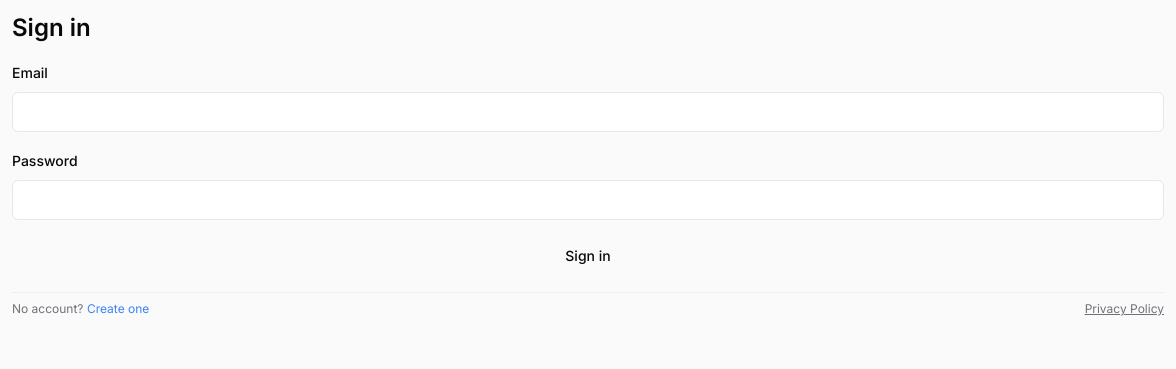
Test: LoginPage › shows inline error on failure
In the field labelled "Email": (588, 112) x1=12 y1=92 x2=1164 y2=132, type "a@b.com"
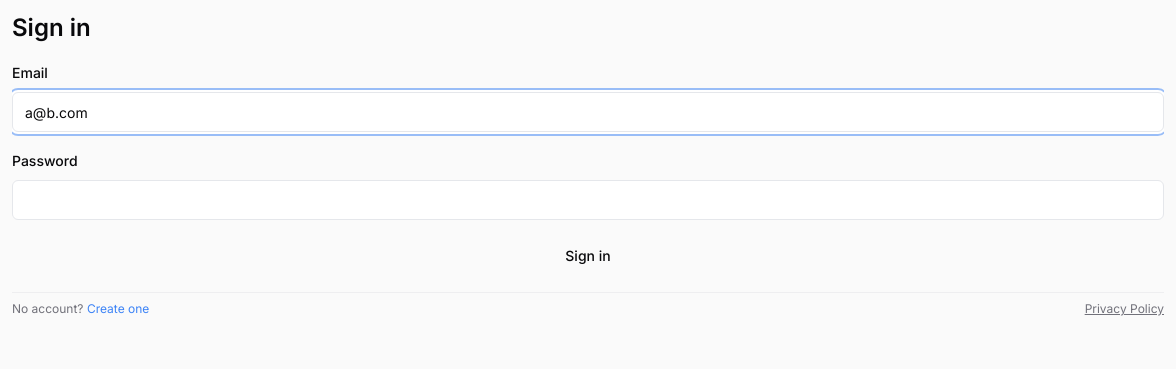
In the password field labelled "Password": (588, 200) x1=12 y1=180 x2=1164 y2=220, type "password123"
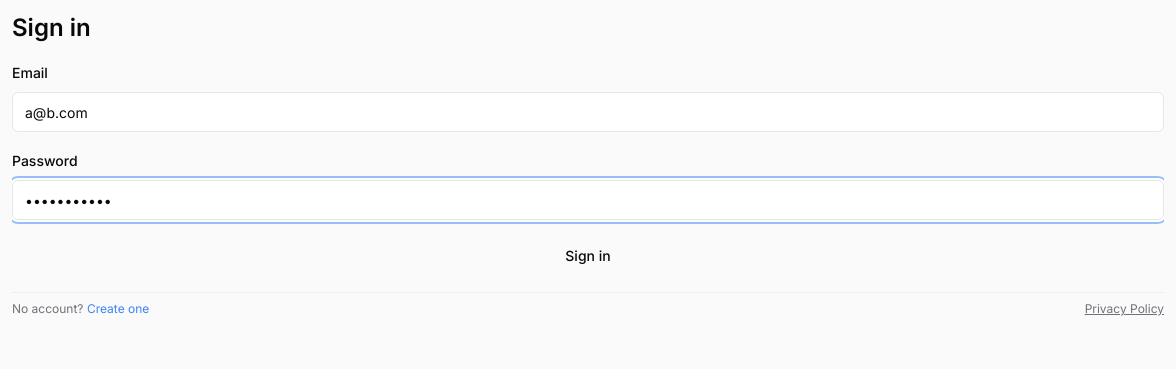
Click the button "Sign in": (588, 256) x1=12 y1=236 x2=1164 y2=276
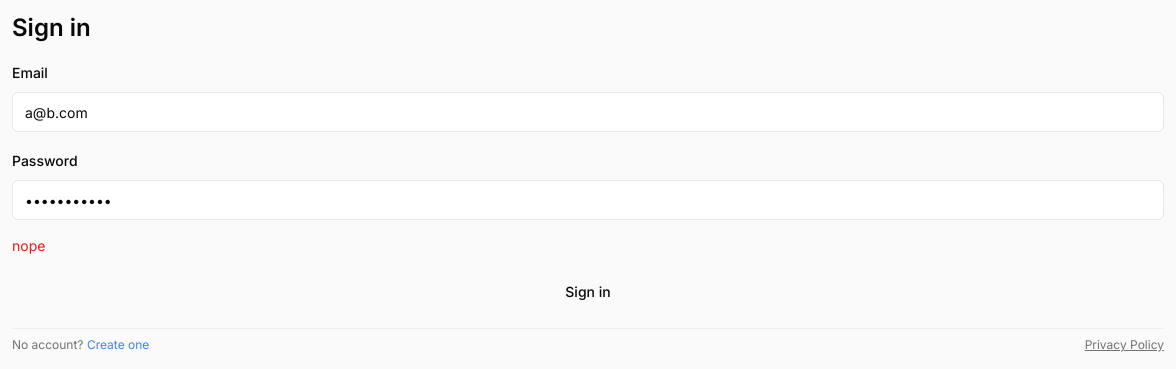
Now the text "nope" is shown, box x1=12 y1=237 x2=45 y2=254
